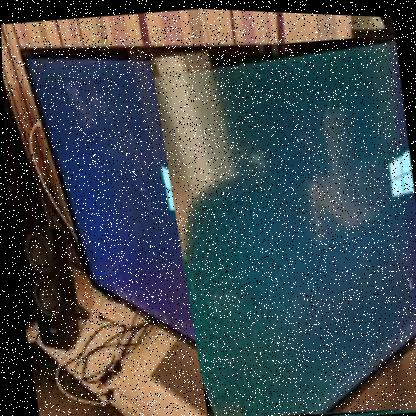fade: (147, 22, 415, 415)
